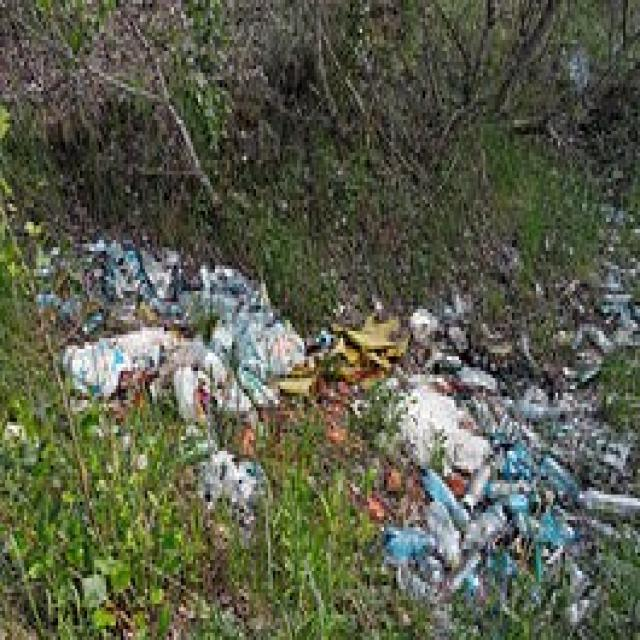garbage: (78, 203, 640, 640)
